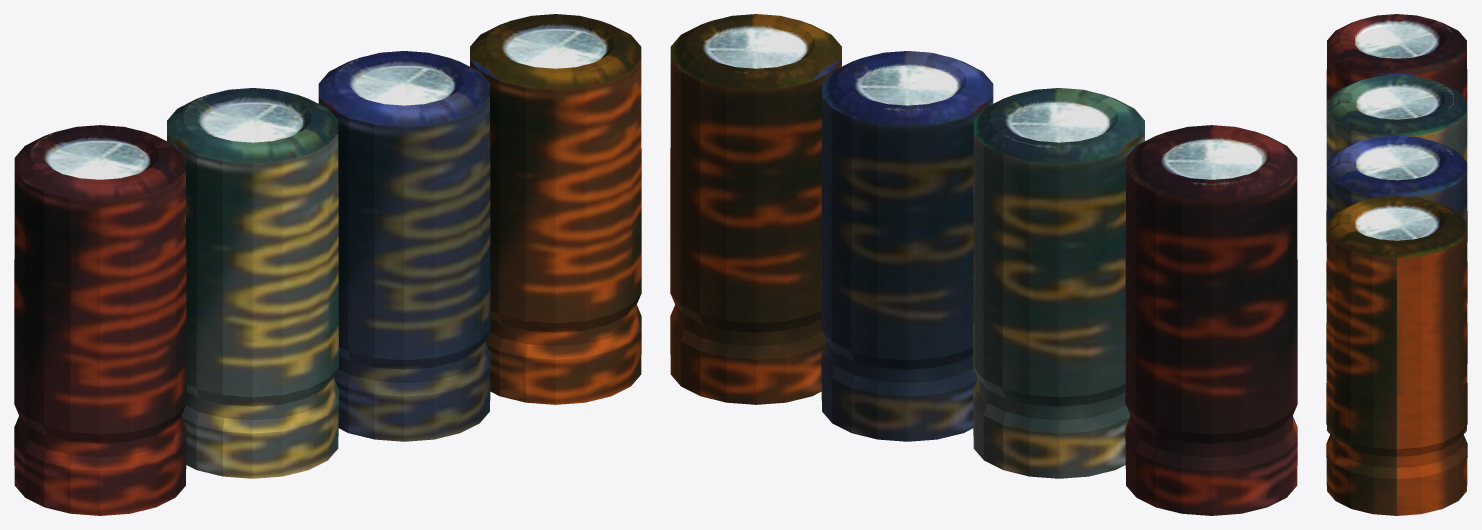
The model's file is Capacitor.FBX.
3 renders of one model, left to right at view 1: azimuth 30°, elevation 25°; view 2: azimuth 150°, elevation 25°; view 3: azimuth 270°, elevation 25°, orthographic. The views are drawn at different scales.
Visible parts, largest first — view 1: Cylinder002, Cylinder001, Cylinder003, Cylinder004; view 2: Cylinder002, Cylinder001, Cylinder003, Cylinder004; view 3: Cylinder004, Cylinder002, Cylinder003, Cylinder001.
Boxes of the visible parts, bbox=[...] form: Cylinder002: bbox=[14, 125, 186, 515]; Cylinder001: bbox=[167, 88, 338, 478]; Cylinder003: bbox=[318, 51, 490, 441]; Cylinder004: bbox=[470, 14, 641, 404]; Cylinder002: bbox=[1125, 125, 1297, 515]; Cylinder001: bbox=[973, 88, 1144, 478]; Cylinder003: bbox=[821, 51, 993, 441]; Cylinder004: bbox=[670, 14, 841, 404]; Cylinder004: bbox=[1326, 196, 1467, 515]; Cylinder002: bbox=[1326, 14, 1467, 271]; Cylinder003: bbox=[1326, 135, 1467, 434]; Cylinder001: bbox=[1326, 75, 1467, 332].
Size of the model in its own units: 40.3 by 20.6 by 9.91.
Materials: 1 (1 with a texture image).
